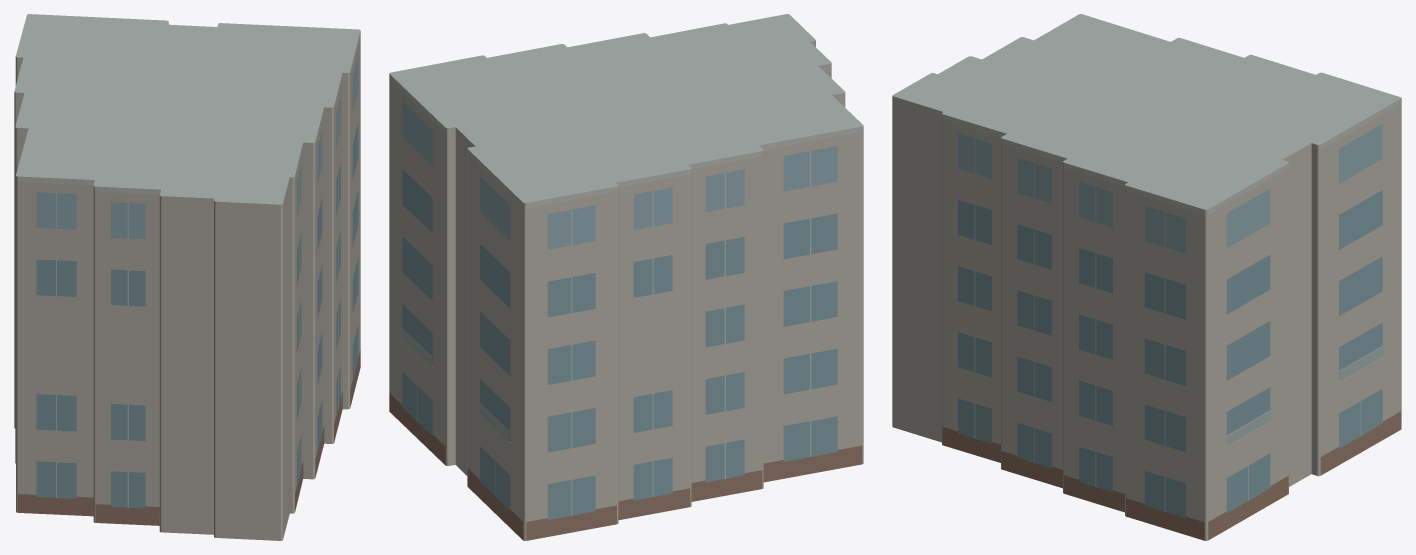
Rendered from survey-upis-32676094.glb.
3 views of the same model, side by side, from view 1: azimuth 30°, elevation 25°; view 2: azimuth 150°, elevation 25°; view 3: azimuth 270°, elevation 25° (orthographic). The views are drawn at different scales.
Visible parts, largest first — view 1: survey-upis-32676094.tmp; view 2: survey-upis-32676094.tmp; view 3: survey-upis-32676094.tmp.
Boxes of the visible parts, x1,y1,x2,y2 form: survey-upis-32676094.tmp: (14,14,360,540); survey-upis-32676094.tmp: (389,14,863,540); survey-upis-32676094.tmp: (892,14,1401,540).
Bounding box in the file's own units: 19.35 × 15.25 × 21.25.
